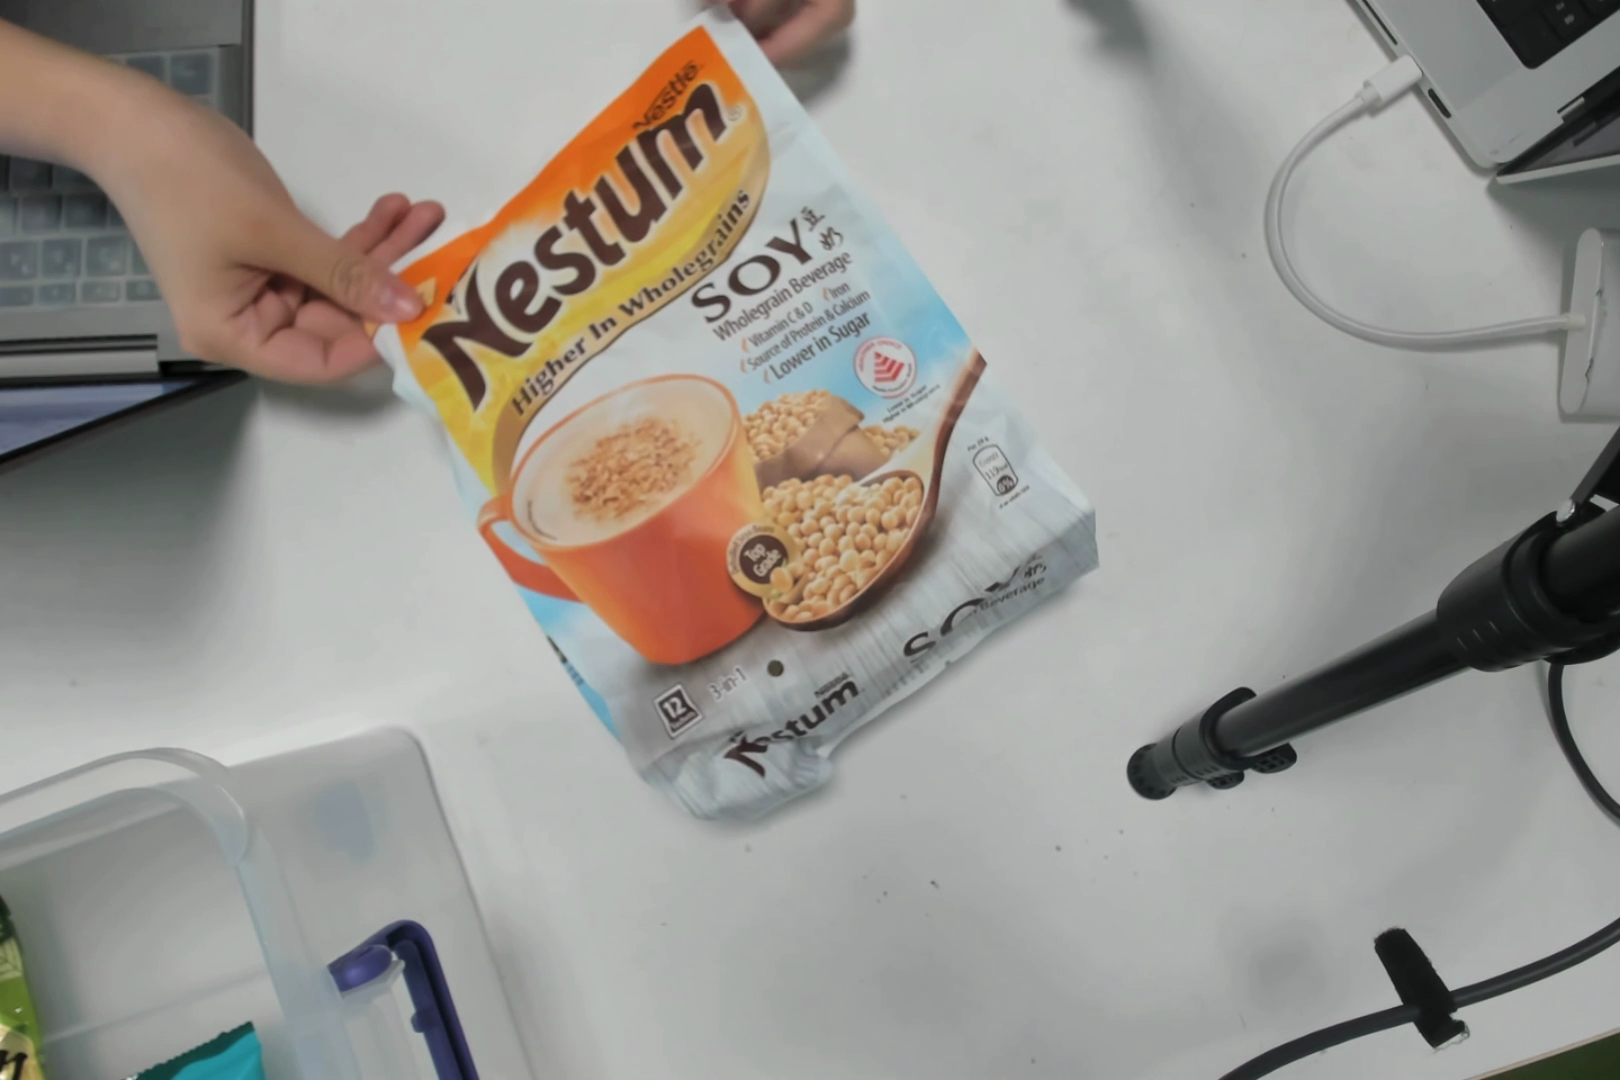e: (441, 51, 1021, 774)
